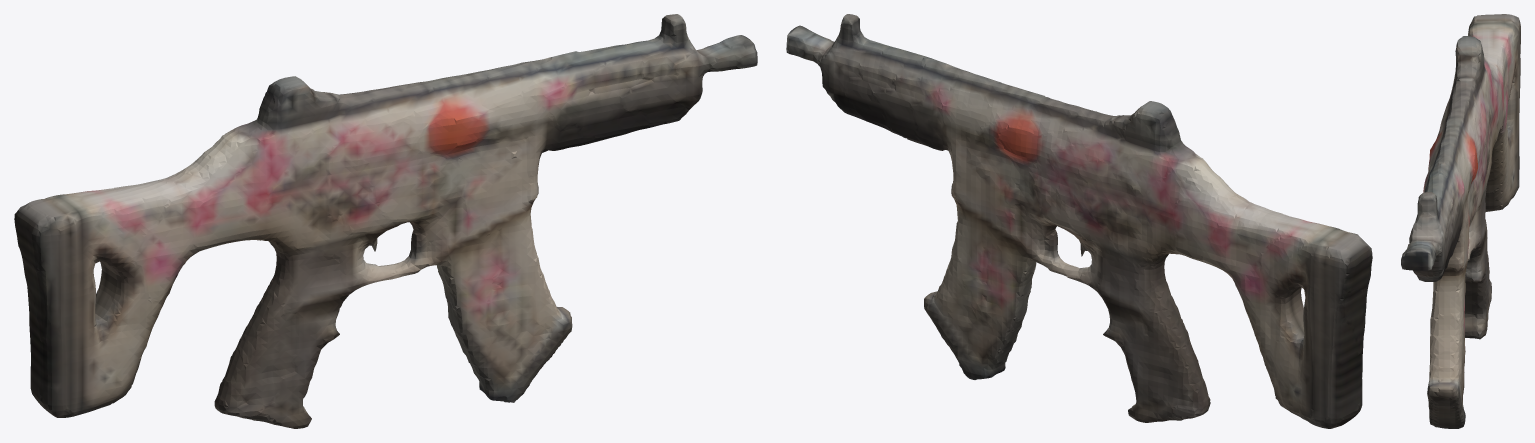
Rendered from gun1.glb.
The picture shows the model from 3 angles, left to right: view 1: azimuth 30°, elevation 25°; view 2: azimuth 150°, elevation 25°; view 3: azimuth 270°, elevation 25°; orthographic projection. The views are drawn at different scales.
Parts seen in each view (by area): view 1: world; view 2: world; view 3: world.
Part boxes in pixels (x1,y1,x2,y2): world: [14, 14, 757, 428]; world: [786, 14, 1372, 428]; world: [1401, 14, 1520, 428].
Size of the model in its own units: 1.97 by 0.9861 by 0.356.
